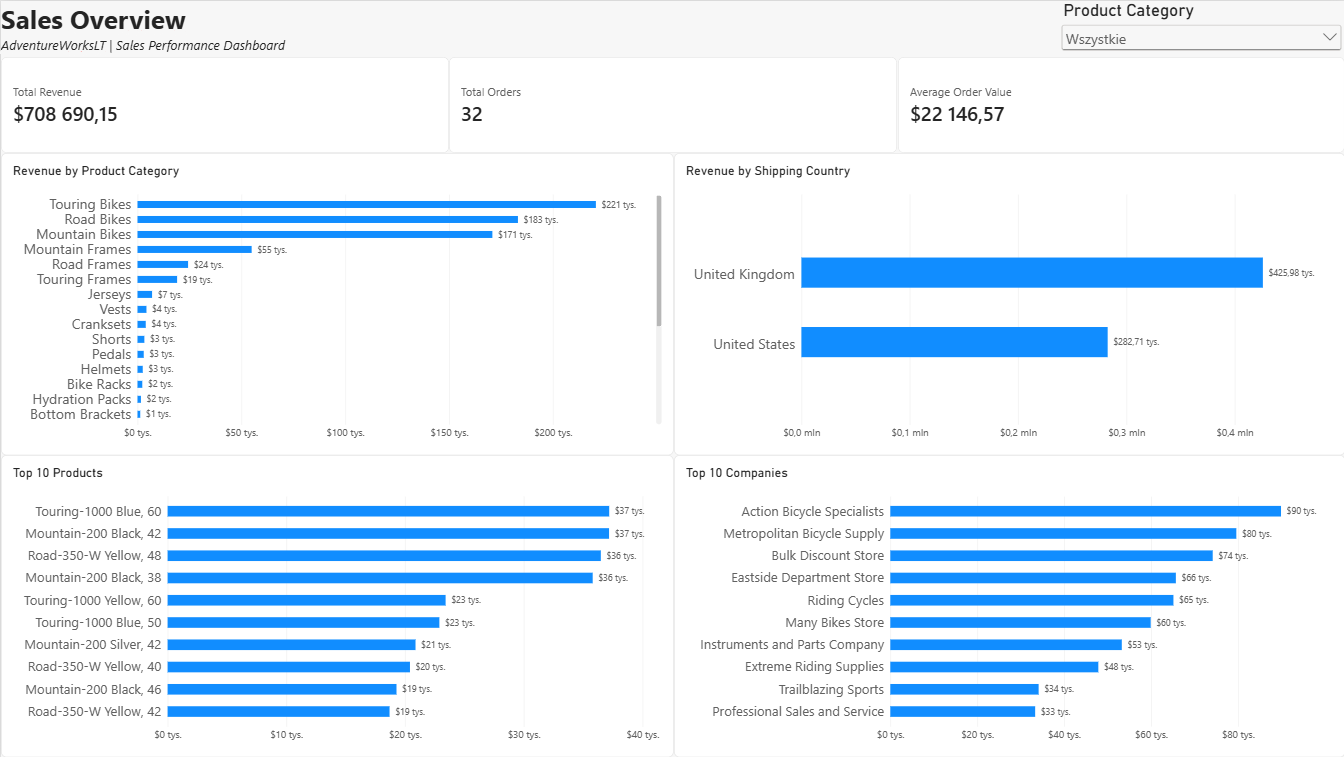

The dashboard page shown, as its layout file describes it:
{"tool":"powerbi","page":{"name":"Sales Overview","canvas":[1920,1080],"ordinal":0},"visuals":[{"type":"cardVisual","fields":{"Data":["fact_sales.Average Order Value"]},"box":[1281.4,80,638.6,137.1],"z":0},{"type":"cardVisual","fields":{"Data":["fact_sales.Total Revenue"]},"box":[0,80,640,137.1],"z":1},{"type":"cardVisual","fields":{"Data":["fact_sales.Total Orders"]},"box":[640,80,640,137.1],"z":2},{"type":"barChart","title":"Revenue by Product Category","fields":{"Category":["dim_product_category.Name"],"Y":["fact_sales.Total Revenue"]},"box":[0,217.5,960.8,431.5],"z":3},{"type":"barChart","title":"Revenue by Shipping Country","fields":{"Category":["dim_address.CountryRegion"],"Y":["fact_sales.Total Revenue"]},"box":[960.8,217.5,959.2,431.5],"z":4},{"type":"barChart","title":"Top 10 Products","fields":{"Category":["dim_product.Name"],"Y":["fact_sales.Total Revenue"]},"box":[0,649,960.8,431.5],"z":5},{"type":"barChart","title":"Top 10 Companies","fields":{"Category":["dim_customer.CompanyName"],"Y":["fact_sales.Total Revenue"]},"box":[960.8,649,959.2,431.5],"z":6},{"type":"slicer","fields":{"Values":["dim_product_category.Name"]},"box":[1510.4,0,409.6,407.9],"z":7},{"type":"textbox","box":[0,0,497.1,50],"z":8},{"type":"textbox","box":[0,50,480,30],"z":9}]}

Visuals, with their boxes in screenshot pixels (x1, y1, x2, y2), scaled from the page's 1920x1080 canvas onto the 1344x757 screenshot:
cardVisual - fact_sales.Average Order Value: box(897, 56, 1343, 152)
cardVisual - fact_sales.Total Revenue: box(0, 56, 448, 152)
cardVisual - fact_sales.Total Orders: box(448, 56, 896, 152)
"Revenue by Product Category" barChart: box(0, 152, 673, 455)
"Revenue by Shipping Country" barChart: box(673, 152, 1343, 455)
"Top 10 Products" barChart: box(0, 455, 673, 756)
"Top 10 Companies" barChart: box(673, 455, 1343, 756)
slicer - dim_product_category.Name: box(1057, 0, 1343, 286)
textbox: box(0, 0, 348, 35)
textbox: box(0, 35, 336, 56)
